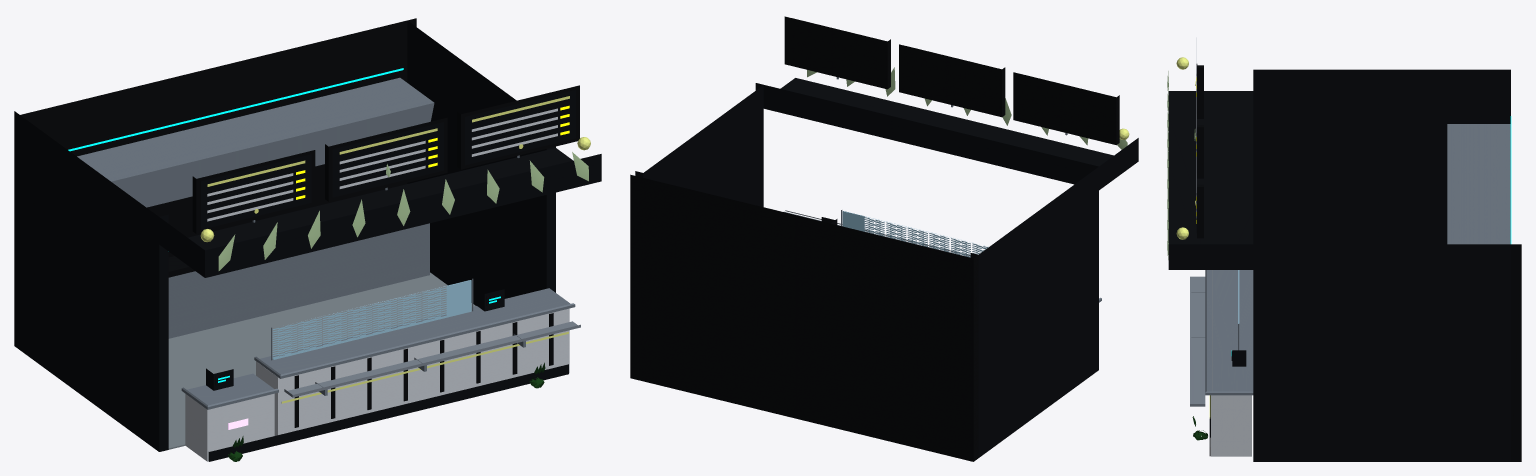
File: tt_food_stall.glb
The picture shows the model from 3 angles, left to right: view 1: azimuth 30°, elevation 25°; view 2: azimuth 150°, elevation 25°; view 3: azimuth 270°, elevation 25°; orthographic projection. The views are drawn at different scales.
Visible parts, largest first — view 1: Side_Walls, Back_Wall, Hood, Canopy, Cook_Line, Menu_Plate, Counter_Body, Kitchen_Floor, Counter_Top, Sneeze_Scissor, Menu_Frames, Counter_Acc_Body (+10 smaller); view 2: Back_Wall, Side_Walls, Menu_Frames, Canopy, Sneeze_Scissor, Canopy_Leaves; view 3: Side_Walls, Canopy, Hood, Counter_Top, Counter_Body, Back_Wall, Tray_Rail, Menu_Frames, Canopy_Leaves.
Part boxes in pixels (x1,y1,x2,y2): Side_Walls: (20, 20, 555, 451); Back_Wall: (14, 18, 416, 349); Hood: (77, 77, 434, 207); Canopy: (159, 148, 601, 277); Cook_Line: (168, 223, 429, 338); Menu_Plate: (200, 90, 575, 229); Counter_Body: (256, 308, 569, 435); Kitchen_Floor: (168, 272, 475, 449); Counter_Top: (254, 288, 575, 378); Sneeze_Scissor: (272, 280, 471, 359); Menu_Frames: (192, 85, 579, 233); Counter_Acc_Body: (185, 393, 274, 461); Back_Wall: (630, 174, 978, 461); Side_Walls: (635, 85, 1098, 457); Menu_Frames: (784, 16, 1119, 145); Canopy: (755, 78, 1138, 190); Sneeze_Scissor: (842, 211, 988, 257); Canopy_Leaves: (807, 67, 1127, 149); Side_Walls: (1253, 69, 1510, 461); Canopy: (1168, 91, 1253, 269); Hood: (1447, 124, 1510, 244); Counter_Top: (1205, 270, 1253, 395); Counter_Body: (1211, 270, 1251, 456); Back_Wall: (1511, 244, 1521, 461); Tray_Rail: (1190, 276, 1205, 406); Menu_Frames: (1197, 65, 1203, 238); Canopy_Leaves: (1167, 71, 1168, 259).
Size of what is drawn, in the model's own units: 6 by 4.25 by 5.02.
14 materials, 8 textured.
